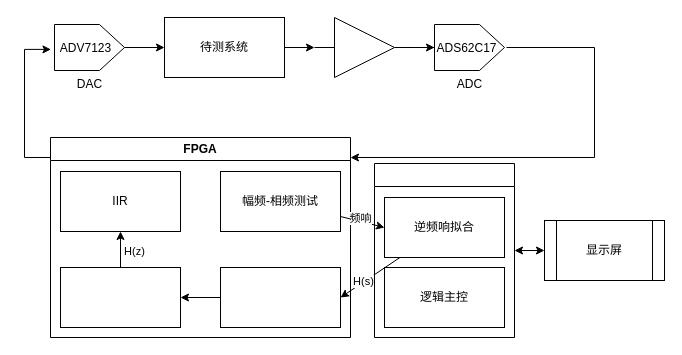
Some shapes in this 682 by 355 pixel diagram are drawn without their labels. Each missing label, with the box of its shape:
MCU: (374, 162, 514, 338)
双线性变换: (60, 266, 180, 328)
数字预失真器: (220, 266, 340, 328)
输入缓冲: (314, 16, 414, 78)
